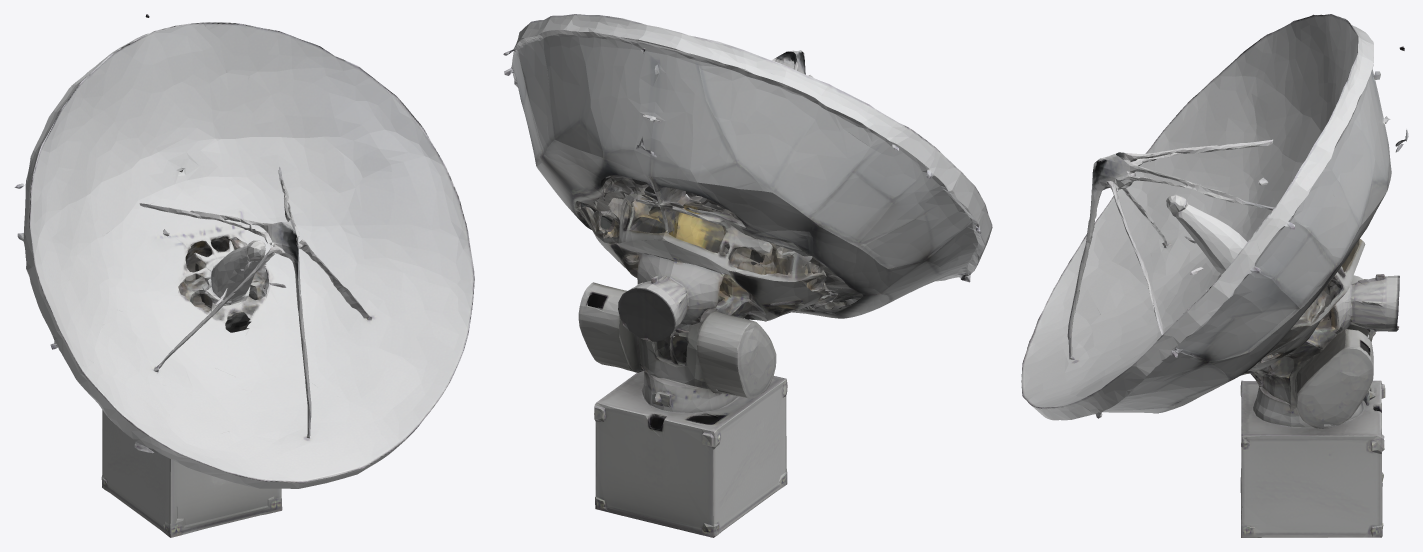
File: Ku-bandAntenna.glb
3 renders of one model, left to right at view 1: azimuth 30°, elevation 25°; view 2: azimuth 150°, elevation 25°; view 3: azimuth 270°, elevation 25°, orthographic. The views are drawn at different scales.
Parts seen in each view (by area): view 1: world; view 2: world; view 3: world.
Boxes of the visible parts, bbox=[...] form: world: bbox=[14, 14, 474, 537]; world: bbox=[503, 14, 992, 537]; world: bbox=[1021, 14, 1408, 537].
Bounding box in the file's own units: 0.9239 × 0.9712 × 0.7304.
Materials: 1 (1 with a texture image).
